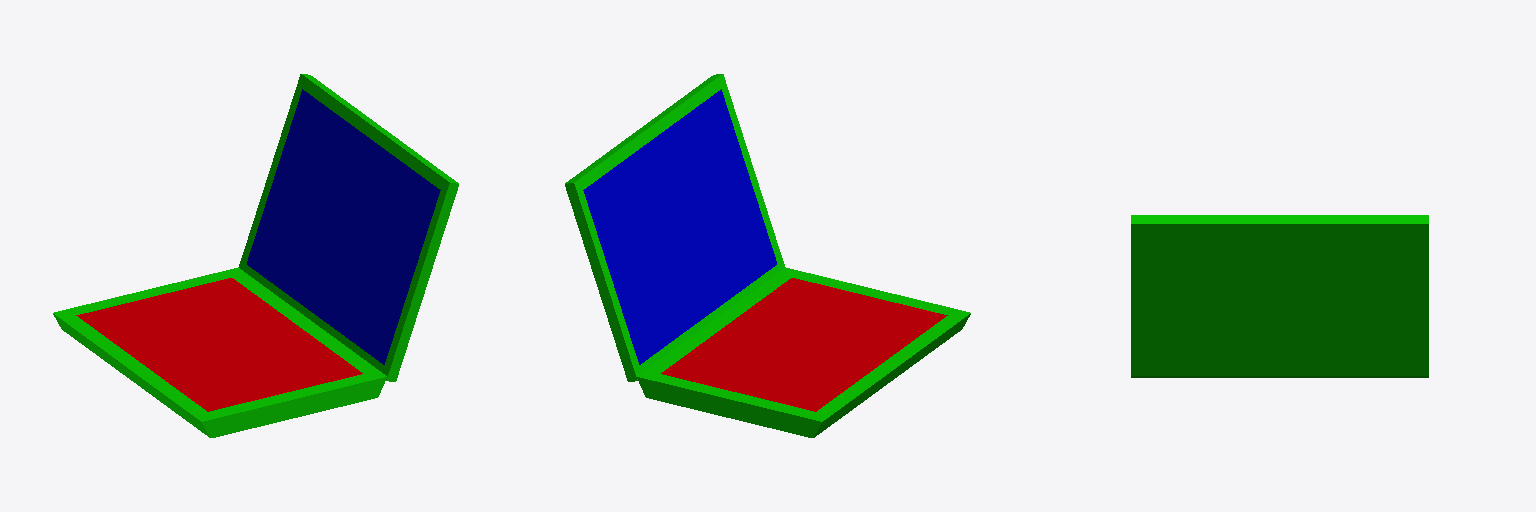
The model's file is Laptop.obj.
3 renders of one model, left to right at view 1: azimuth 30°, elevation 25°; view 2: azimuth 150°, elevation 25°; view 3: azimuth 270°, elevation 25°, orthographic.
Visible parts, largest first — view 1: Laptop; view 2: Laptop; view 3: Laptop.
Boxes of the visible parts, x1=… form: Laptop: x1=53, y1=74, x2=458, y2=437; Laptop: x1=565, y1=74, x2=970, y2=437; Laptop: x1=1131, y1=215, x2=1428, y2=377.
Bounding box in the file's own units: 0.6992 × 0.5118 × 0.7.